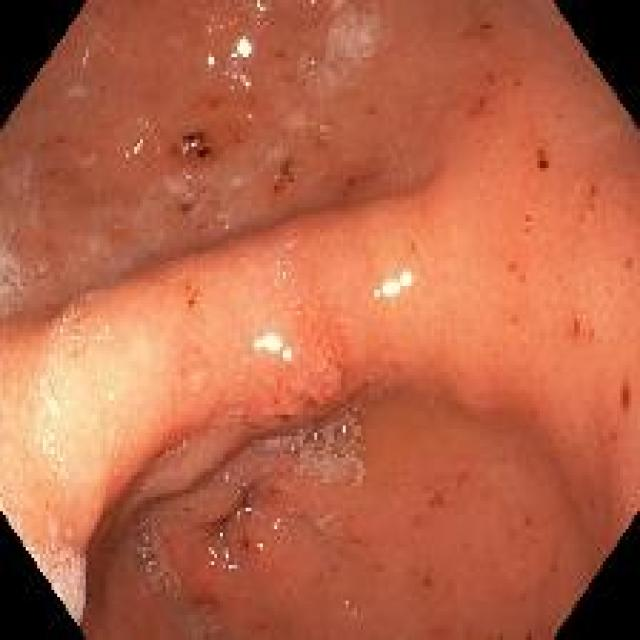blood: (275, 182, 288, 192), (182, 204, 193, 212), (200, 149, 210, 157), (285, 161, 290, 176), (185, 135, 195, 142), (189, 300, 195, 308), (196, 292, 200, 296)
bubbles: (275, 411, 367, 493), (135, 527, 175, 594), (1, 259, 29, 314), (306, 116, 332, 136), (308, 55, 321, 69)
specularity: (384, 272, 413, 297), (254, 335, 284, 352), (47, 391, 61, 417), (238, 40, 251, 56), (133, 141, 144, 154), (43, 436, 56, 447), (283, 351, 293, 361), (210, 548, 218, 560), (232, 74, 247, 79), (257, 2, 265, 10), (274, 521, 281, 530), (208, 56, 214, 66), (245, 80, 251, 88), (225, 549, 229, 561), (375, 292, 381, 298), (231, 53, 238, 58), (258, 544, 263, 551), (230, 565, 237, 570), (192, 143, 197, 149), (109, 395, 114, 401), (37, 412, 42, 418), (219, 534, 224, 539), (59, 459, 64, 464), (343, 427, 346, 435), (106, 326, 110, 332), (50, 352, 53, 360), (64, 403, 68, 408), (187, 175, 191, 179), (247, 509, 251, 513), (51, 453, 55, 457), (78, 336, 82, 340), (44, 450, 47, 455), (150, 562, 153, 566), (143, 554, 146, 558), (145, 539, 149, 542), (37, 437, 40, 441), (61, 353, 64, 357), (142, 535, 145, 538), (64, 393, 67, 396), (237, 514, 239, 518), (223, 565, 225, 568), (213, 563, 215, 566)
